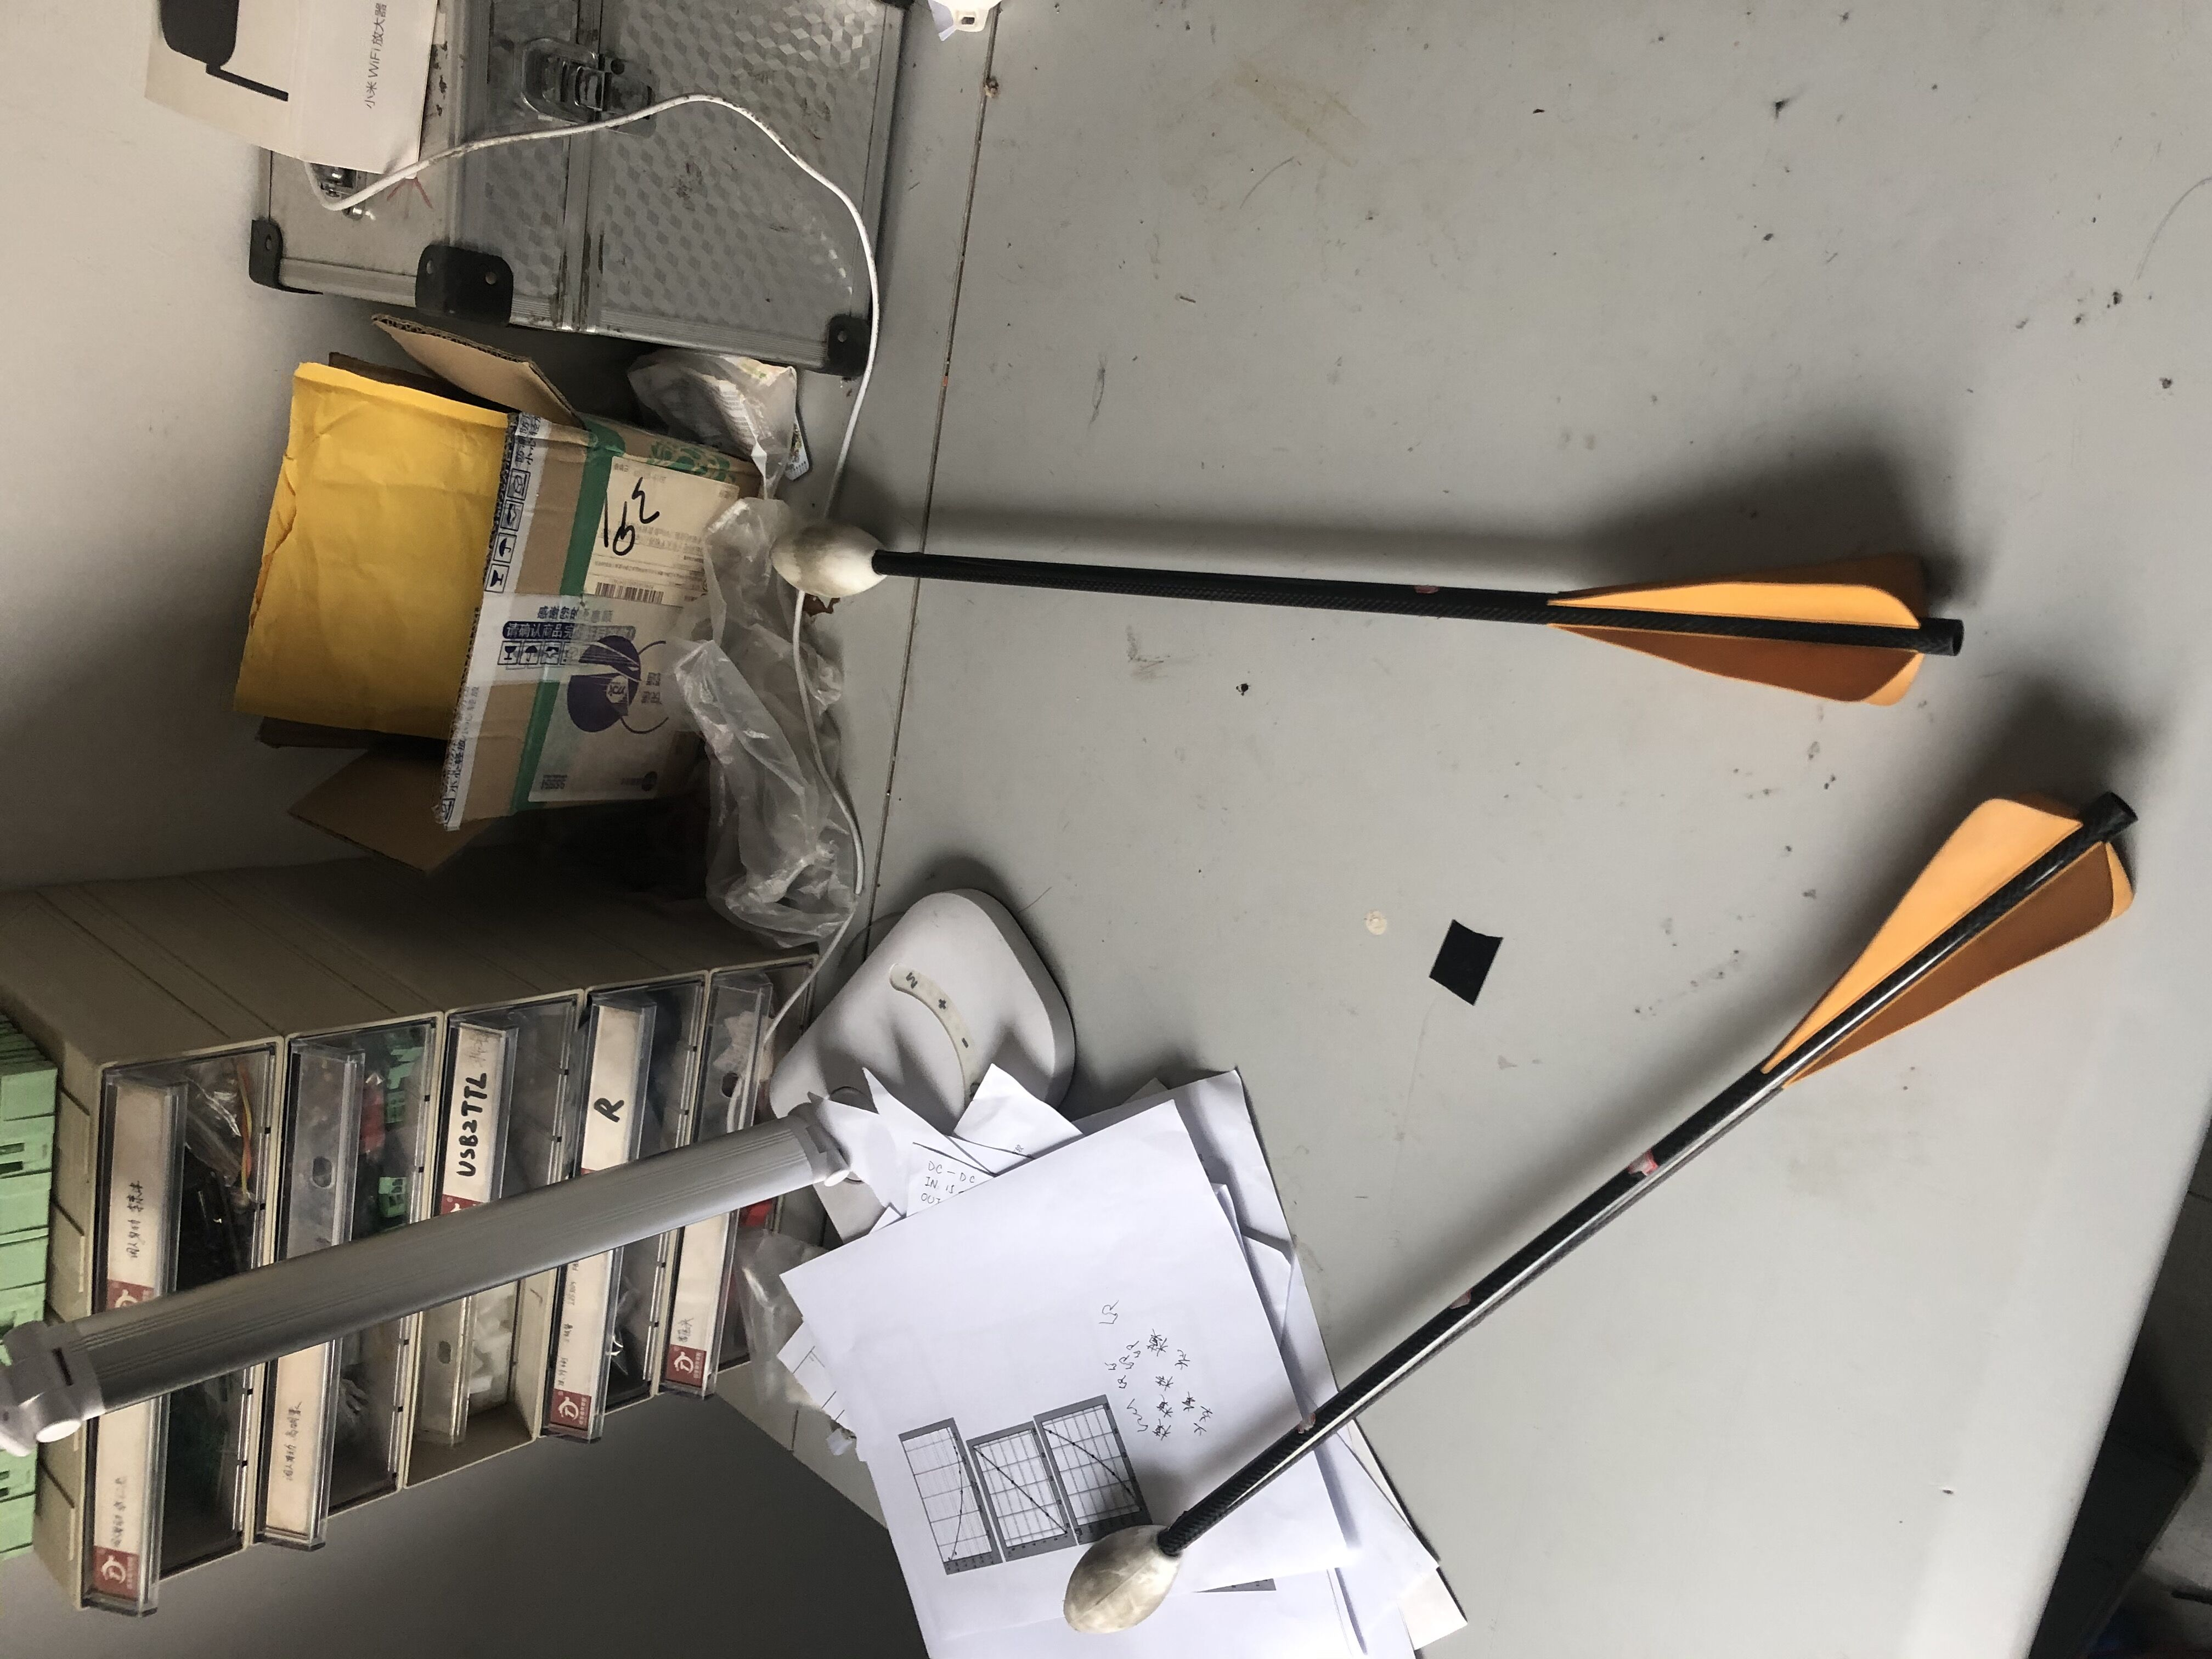arrow: (1062, 795, 2137, 1629), (772, 521, 1963, 711)
arrowFront: (1066, 1521, 1186, 1631), (773, 523, 892, 598)
